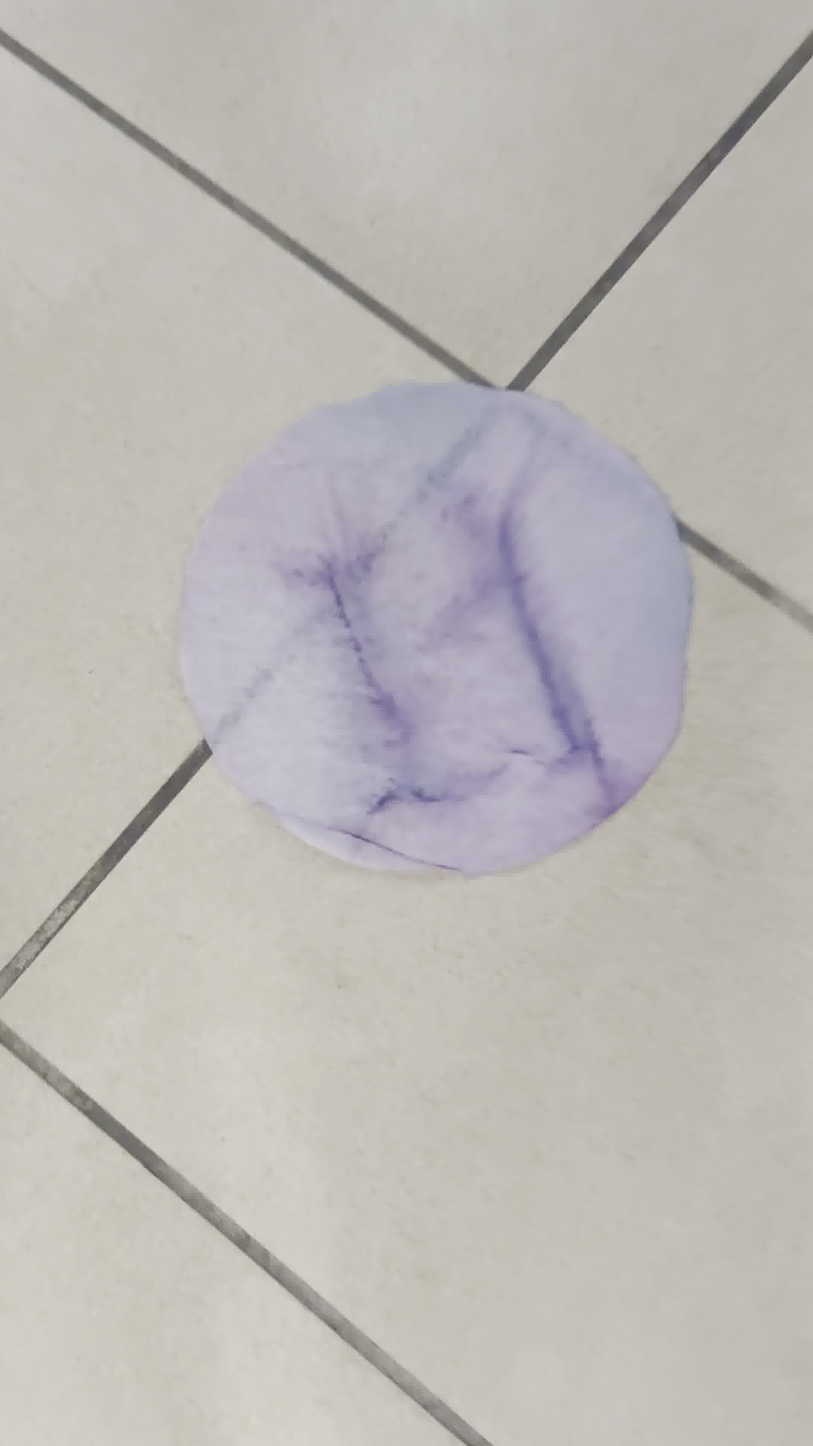Target: (183, 387, 696, 879)
